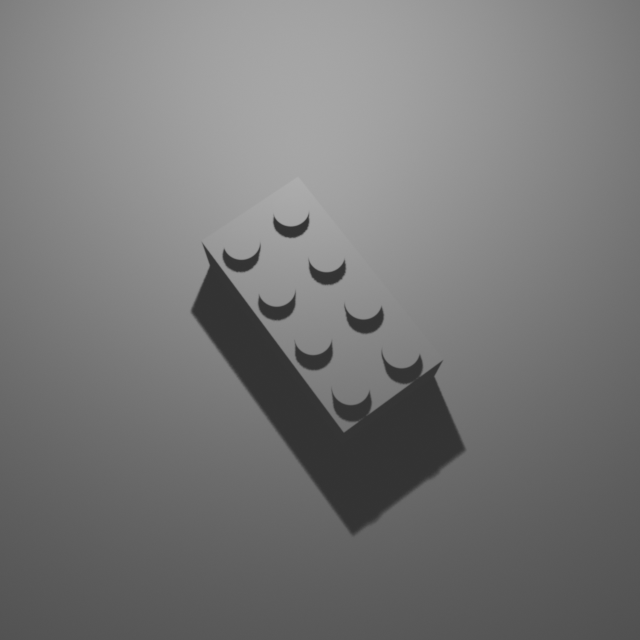lego_2x4: (200, 171, 445, 444)
